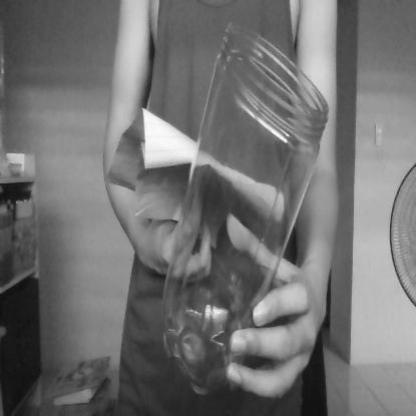Plastic Bottle: (161, 26, 332, 399)
